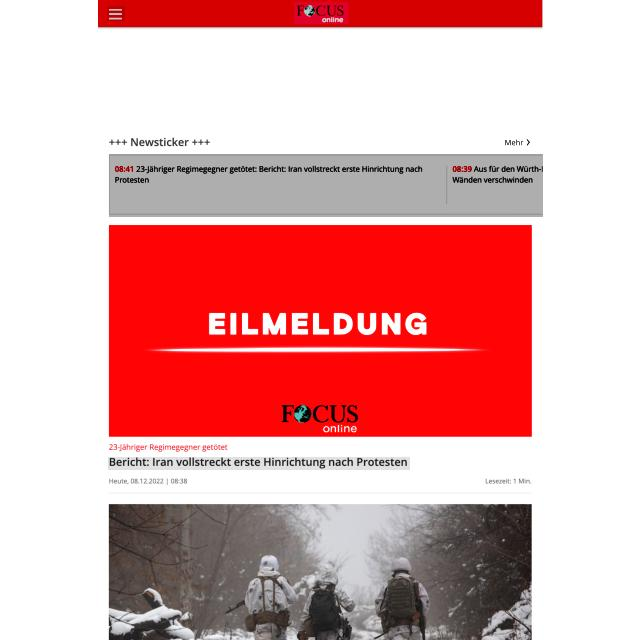CheckBox: (503, 134, 531, 149)
Input field: (108, 458, 410, 472)
QR code: (109, 154, 543, 217)
bag: (98, 0, 543, 28)
copy: (108, 224, 532, 438)
date picker: (294, 2, 348, 24)
decoration: (107, 6, 125, 21)
